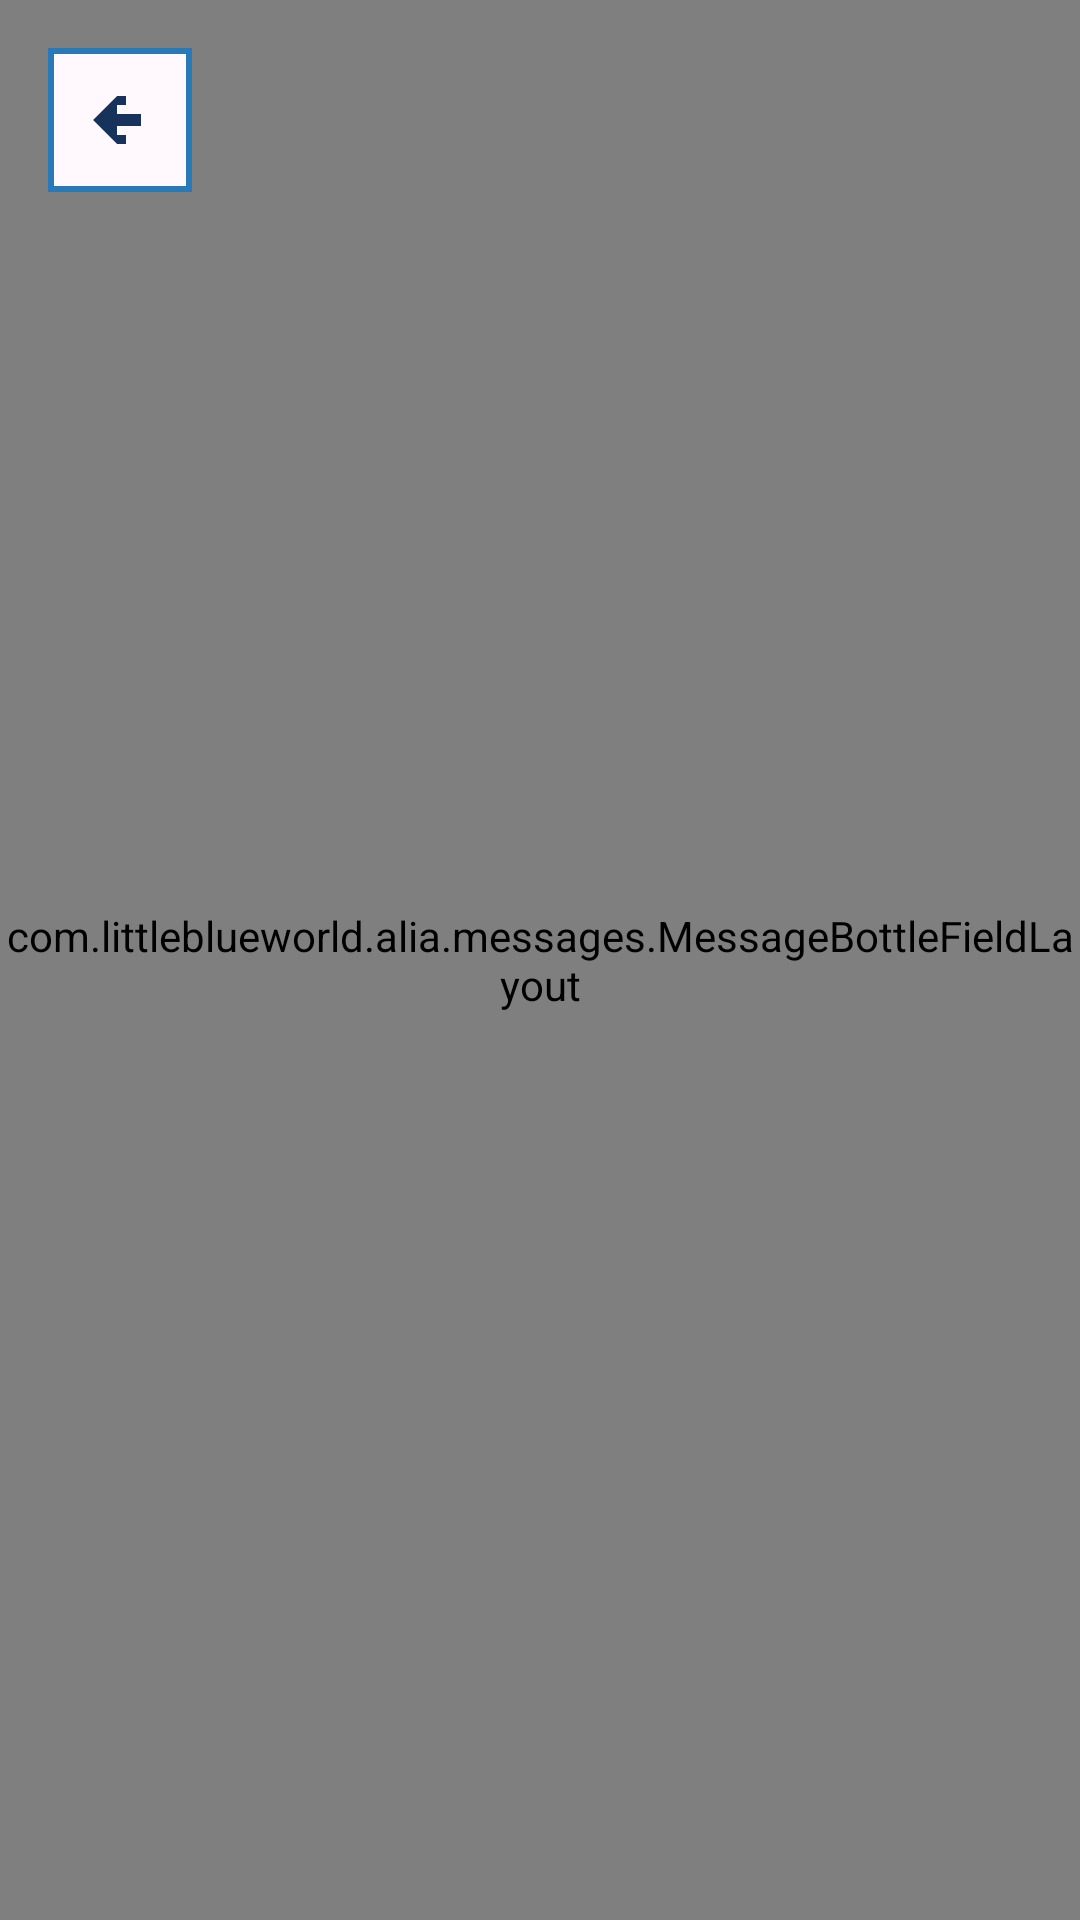

Icons on this 1080px x 1920px Android screen, each with its box as (x1, y1, x2, y2):
Back to Little Blue World: (48, 48, 192, 192)
